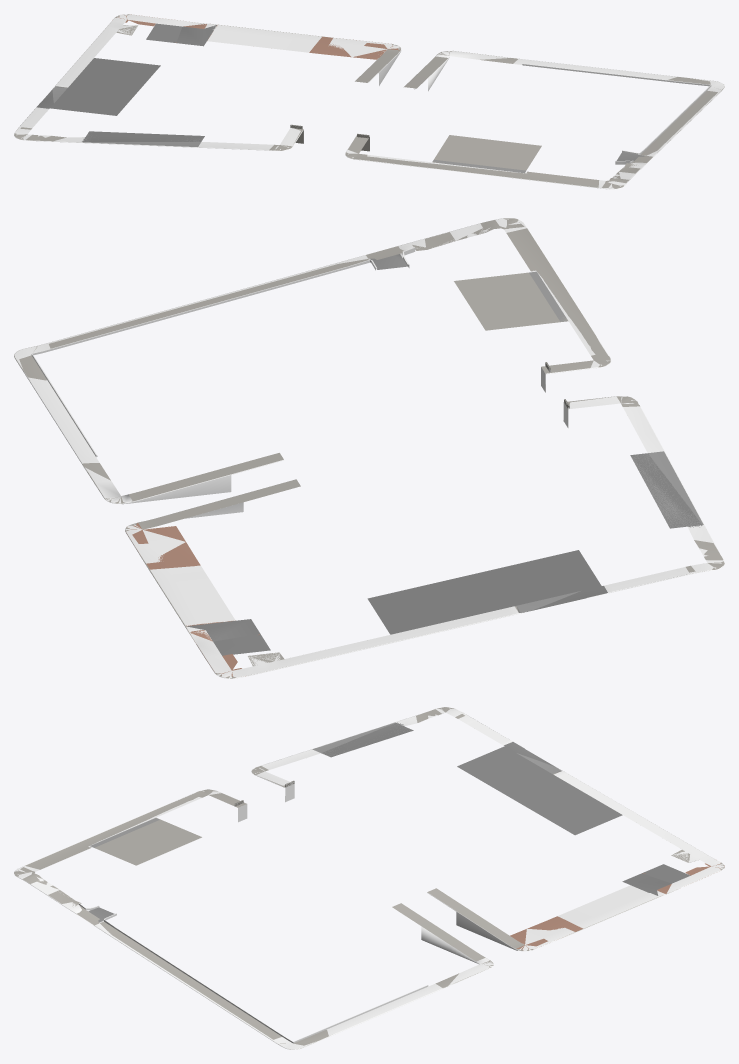
Rendered from sidewalk_constructionsite.dae.
3 renders of one model, top to bottom at view 1: azimuth 30°, elevation 25°; view 2: azimuth 150°, elevation 25°; view 3: azimuth 270°, elevation 25°, orthographic. The views are drawn at different scales.
Visible parts, largest first — view 1: sidewalk_constructionsite_a2000, sidewalk_constructionsite_a3000; view 2: sidewalk_constructionsite_a2000, sidewalk_constructionsite_a3000; view 3: sidewalk_constructionsite_a2000, sidewalk_constructionsite_a3000.
Boxes of the visible parts, <box> form: sidewalk_constructionsite_a2000: <box>14,14,724,188</box>; sidewalk_constructionsite_a3000: <box>14,14,724,189</box>; sidewalk_constructionsite_a2000: <box>14,218,724,678</box>; sidewalk_constructionsite_a3000: <box>14,218,724,678</box>; sidewalk_constructionsite_a2000: <box>14,707,724,1049</box>; sidewalk_constructionsite_a3000: <box>14,707,724,1049</box>.
Size of the model in its own units: 234 by 234 by 22.84.
